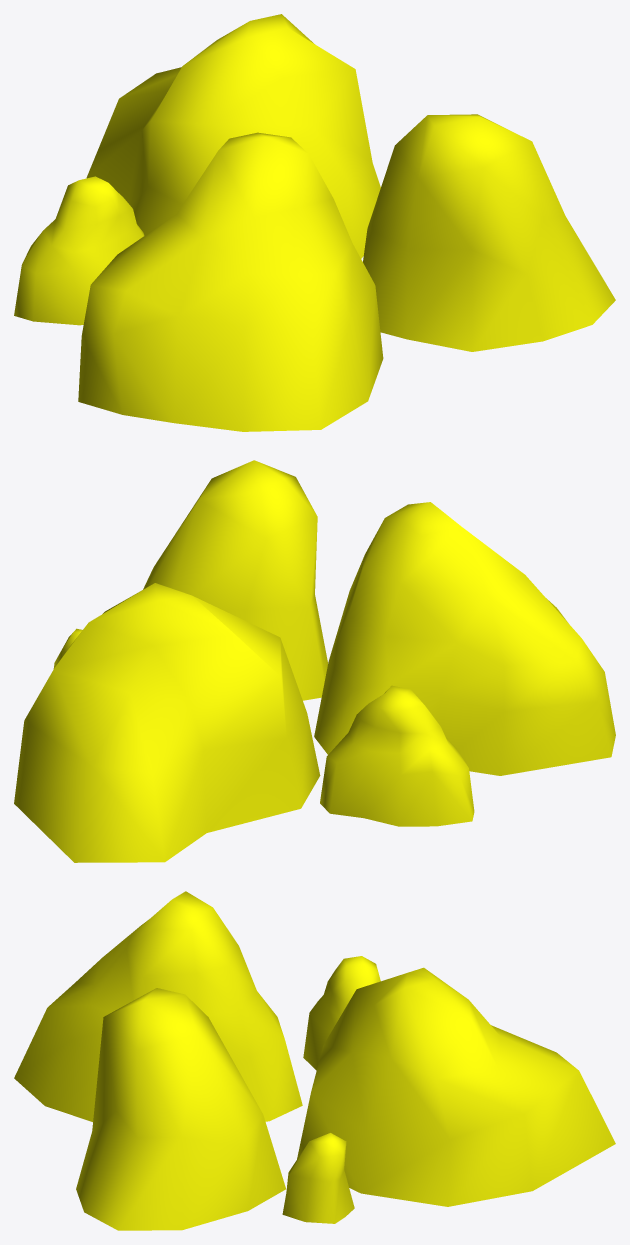
Rendered from shrine_rock_02.glb.
The picture shows the model from 3 angles, top to bottom: view 1: azimuth 30°, elevation 25°; view 2: azimuth 150°, elevation 25°; view 3: azimuth 270°, elevation 25°; orthographic projection. The views are drawn at different scales.
Parts seen in each view (by area): view 1: Shrine_rock_02; view 2: Shrine_rock_02; view 3: Shrine_rock_02.
Part boxes in pixels (bbox=[...]): Shrine_rock_02: bbox=[14, 14, 615, 431]; Shrine_rock_02: bbox=[14, 460, 615, 862]; Shrine_rock_02: bbox=[14, 891, 615, 1230].
Size of the model in its own units: 4.46 by 1.84 by 5.18.
3 materials, 3 textured.
